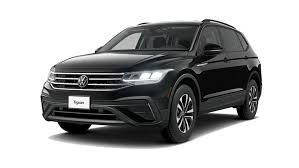volkswagen: (77, 73, 92, 89)
